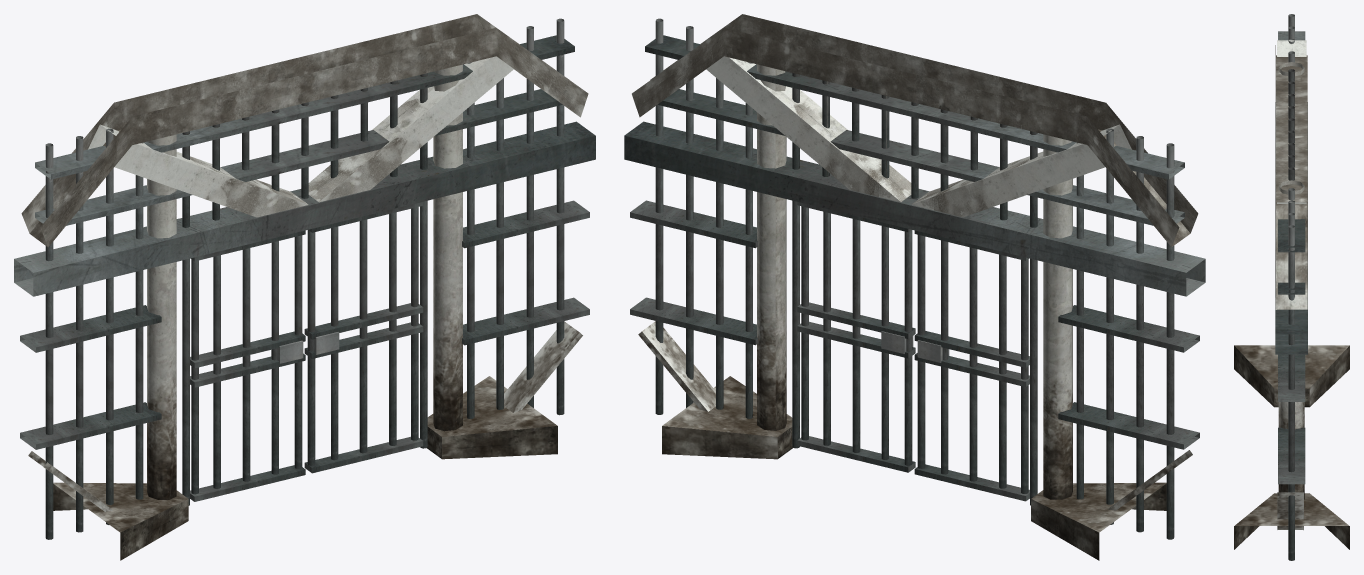
Rendered from Strct_Lvl1_ZoneA_Gate_Closed.fbx.
The picture shows the model from 3 angles, left to right: view 1: azimuth 30°, elevation 25°; view 2: azimuth 150°, elevation 25°; view 3: azimuth 270°, elevation 25°; orthographic projection. The views are drawn at different scales.
Visible parts, largest first — view 1: polySurface31; view 2: polySurface31; view 3: polySurface31.
Boxes of the visible parts, bbox=[...] form: polySurface31: bbox=[14, 14, 595, 560]; polySurface31: bbox=[624, 14, 1205, 560]; polySurface31: bbox=[1234, 14, 1349, 560].
Bounding box in the file's own units: 612 × 436 × 129.
